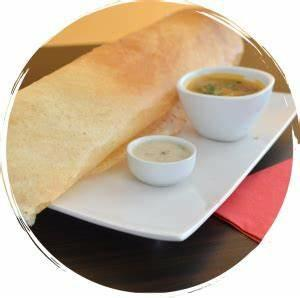CoconutChutney: (133, 140, 190, 162)
Dosa: (7, 8, 243, 226)
